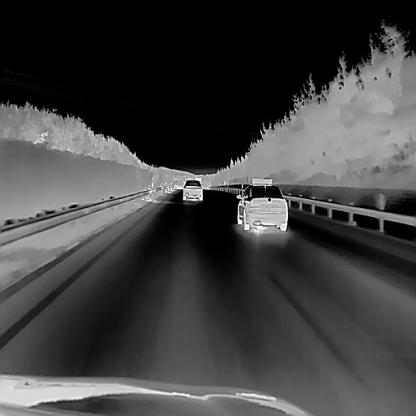car: (235, 176, 287, 230), (181, 178, 203, 200)
